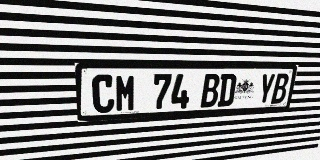4: (170, 74, 191, 109)
7: (151, 74, 172, 110)
B: (200, 74, 220, 108), (271, 73, 290, 104)
C: (92, 74, 114, 113)
D: (217, 74, 237, 107)
M: (115, 74, 136, 112)
Y: (256, 74, 276, 104)
